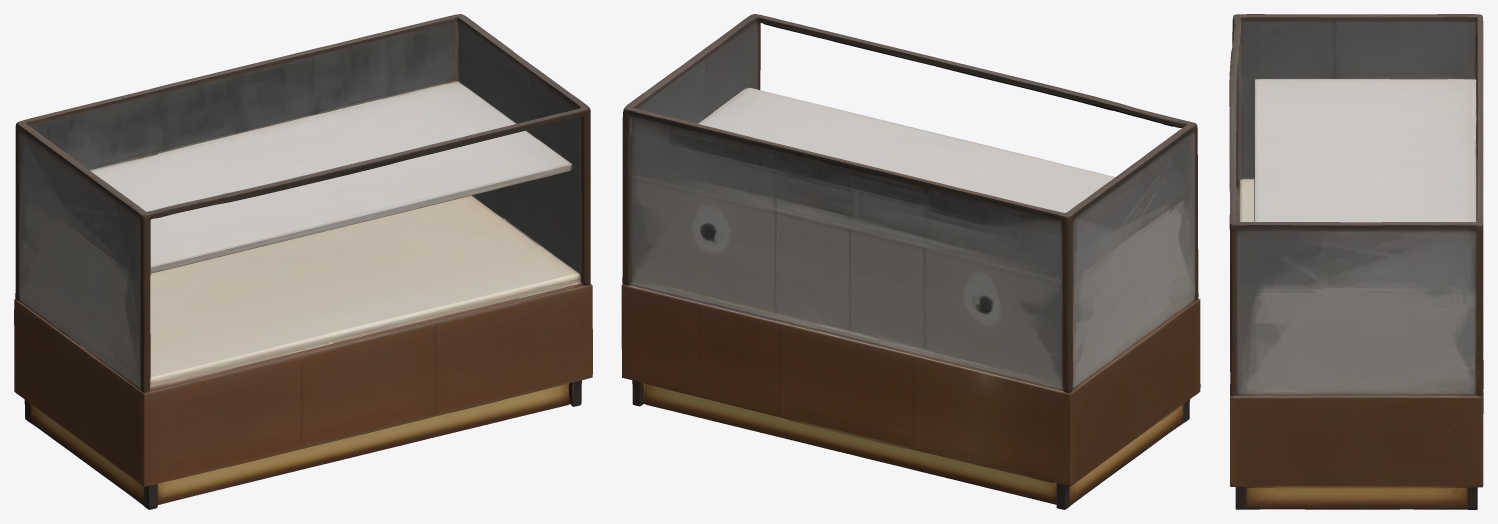
File: displaycase_glass_brown.glb
The picture shows the model from 3 angles, left to right: view 1: azimuth 30°, elevation 25°; view 2: azimuth 150°, elevation 25°; view 3: azimuth 270°, elevation 25°; orthographic projection. The views are drawn at different scales.
Visible parts, largest first — view 1: geometry_0; view 2: geometry_0; view 3: geometry_0.
Boxes of the visible parts, x1=… form: geometry_0: x1=14, y1=14, x2=592, y2=509; geometry_0: x1=621, y1=14, x2=1200, y2=509; geometry_0: x1=1229, y1=14, x2=1483, y2=509.
Bounding box in the file's own units: 0.9996 × 0.6328 × 0.5051.
1 material, 1 textured.
